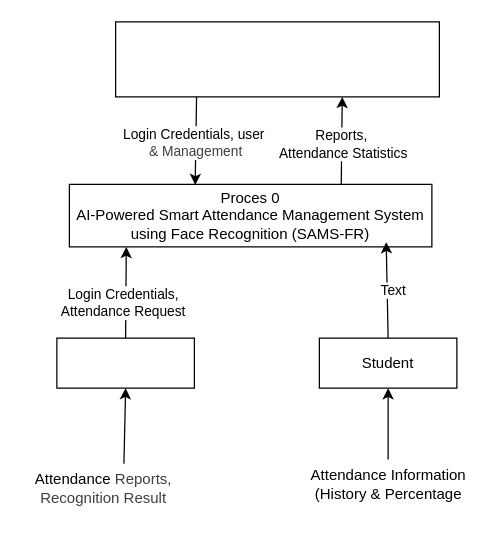
Some shapes in this 503 by 535 pixel diagram are drawn without their labels. Each missing label, with the box of its shape:
Administrator: (114, 21, 439, 97)
Faculty Member: (56, 337, 194, 388)
